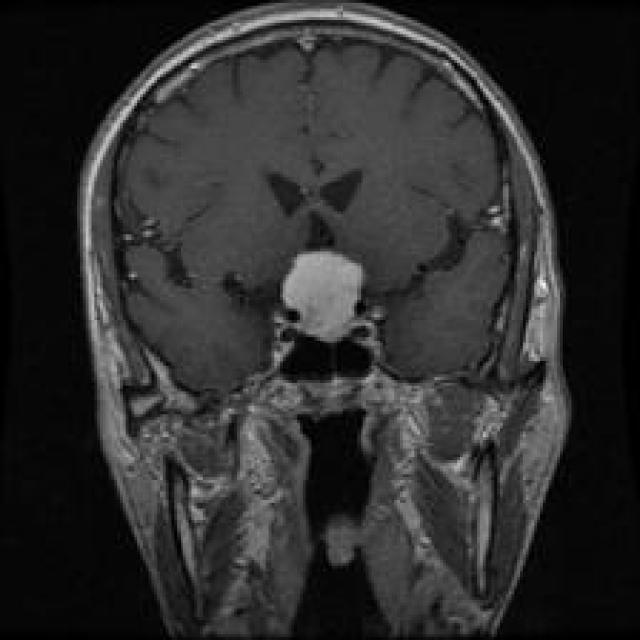meningioma_tumor: (272, 239, 376, 350)
